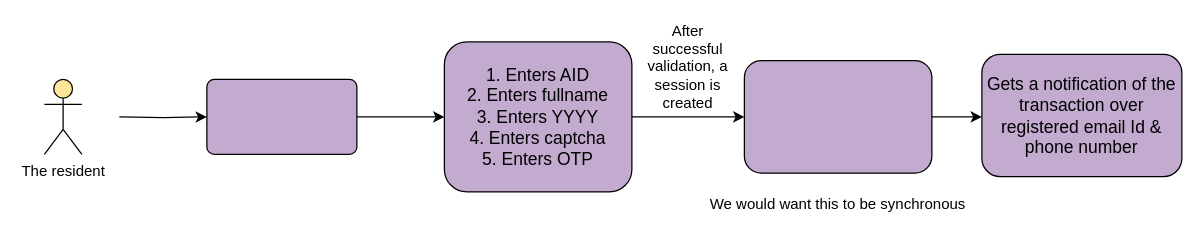
This 1204x238 diagram has some shape labels left out. Here are the shapes that lost their labels. From the top down, the box of each, then its label:
(206, 78, 357, 154): Navigates to " Get your UIN "
(743, 59, 932, 173): Gets a UIN card with name, DOB and UIN (configurable attributes)
